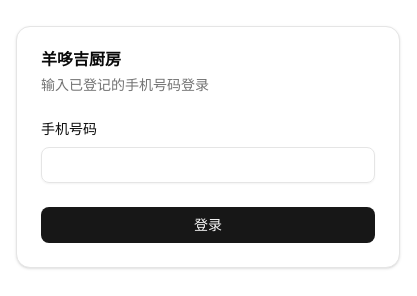
LoginPage › 响应非 JSON 时回退到通用错误提示
The width and height of the screenshot is (417, 296).
Type "13800000001" into the field labelled "手机号码" at (208, 165), box 41,147 -> 375,183
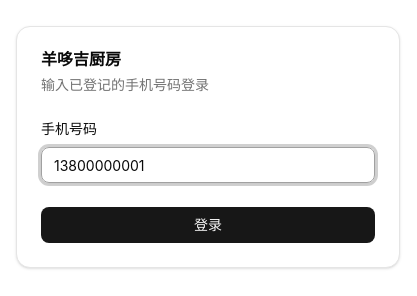
Click the button "登录" at (208, 225), box 41,207 -> 375,243
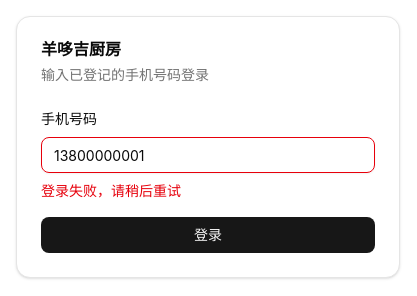
Check: the text "登录失败，请稍后重试" is shown, box 41,182 -> 181,199
